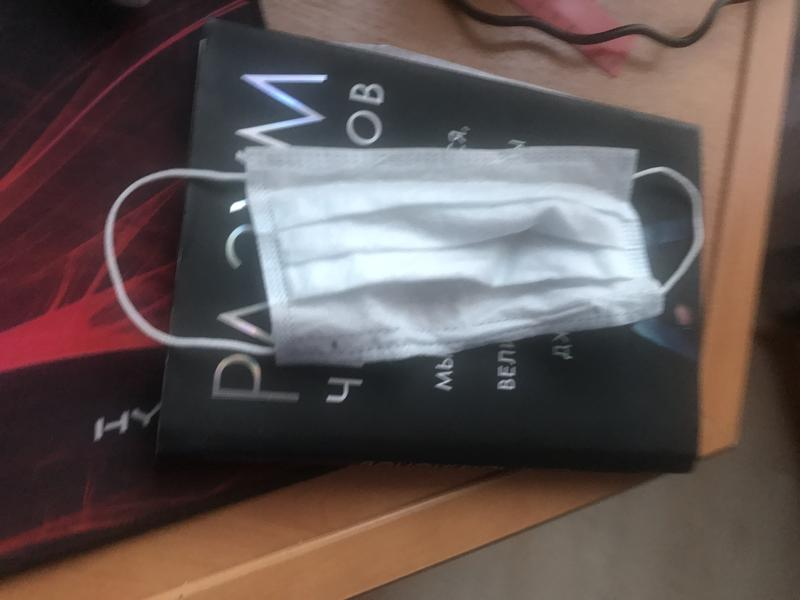medical_mask: (103, 145, 704, 361)
